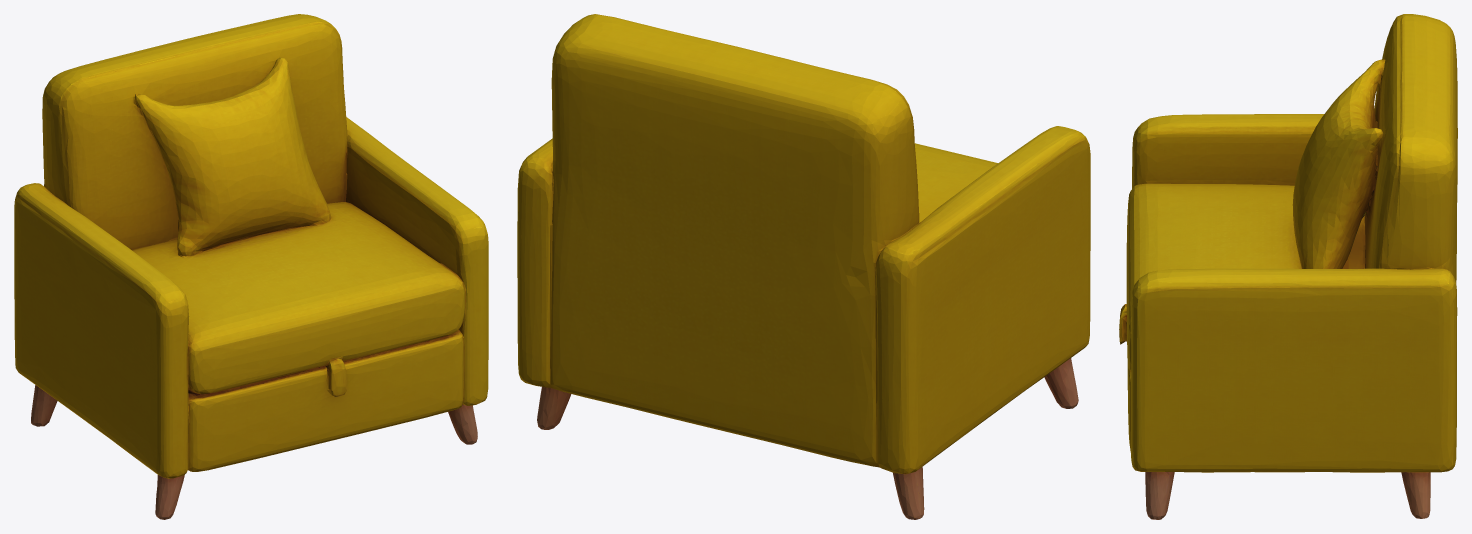
The model's file is sofa.glb.
3 views of the same model, side by side, from view 1: azimuth 30°, elevation 25°; view 2: azimuth 150°, elevation 25°; view 3: azimuth 270°, elevation 25° (orthographic). The views are drawn at different scales.
Visible parts, largest first — view 1: geometry_0; view 2: geometry_0; view 3: geometry_0.
Boxes of the visible parts, <box> form: geometry_0: <box>14,14,488,519</box>; geometry_0: <box>517,14,1090,519</box>; geometry_0: <box>1119,14,1457,519</box>.
Size of the model in its own units: 0.4936 by 0.4943 by 0.4157.
1 material, 1 textured.
